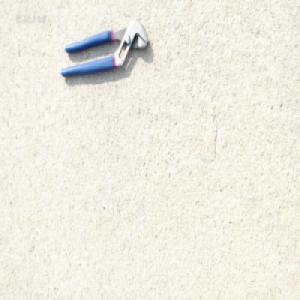Pliers: (60, 18, 149, 80)
